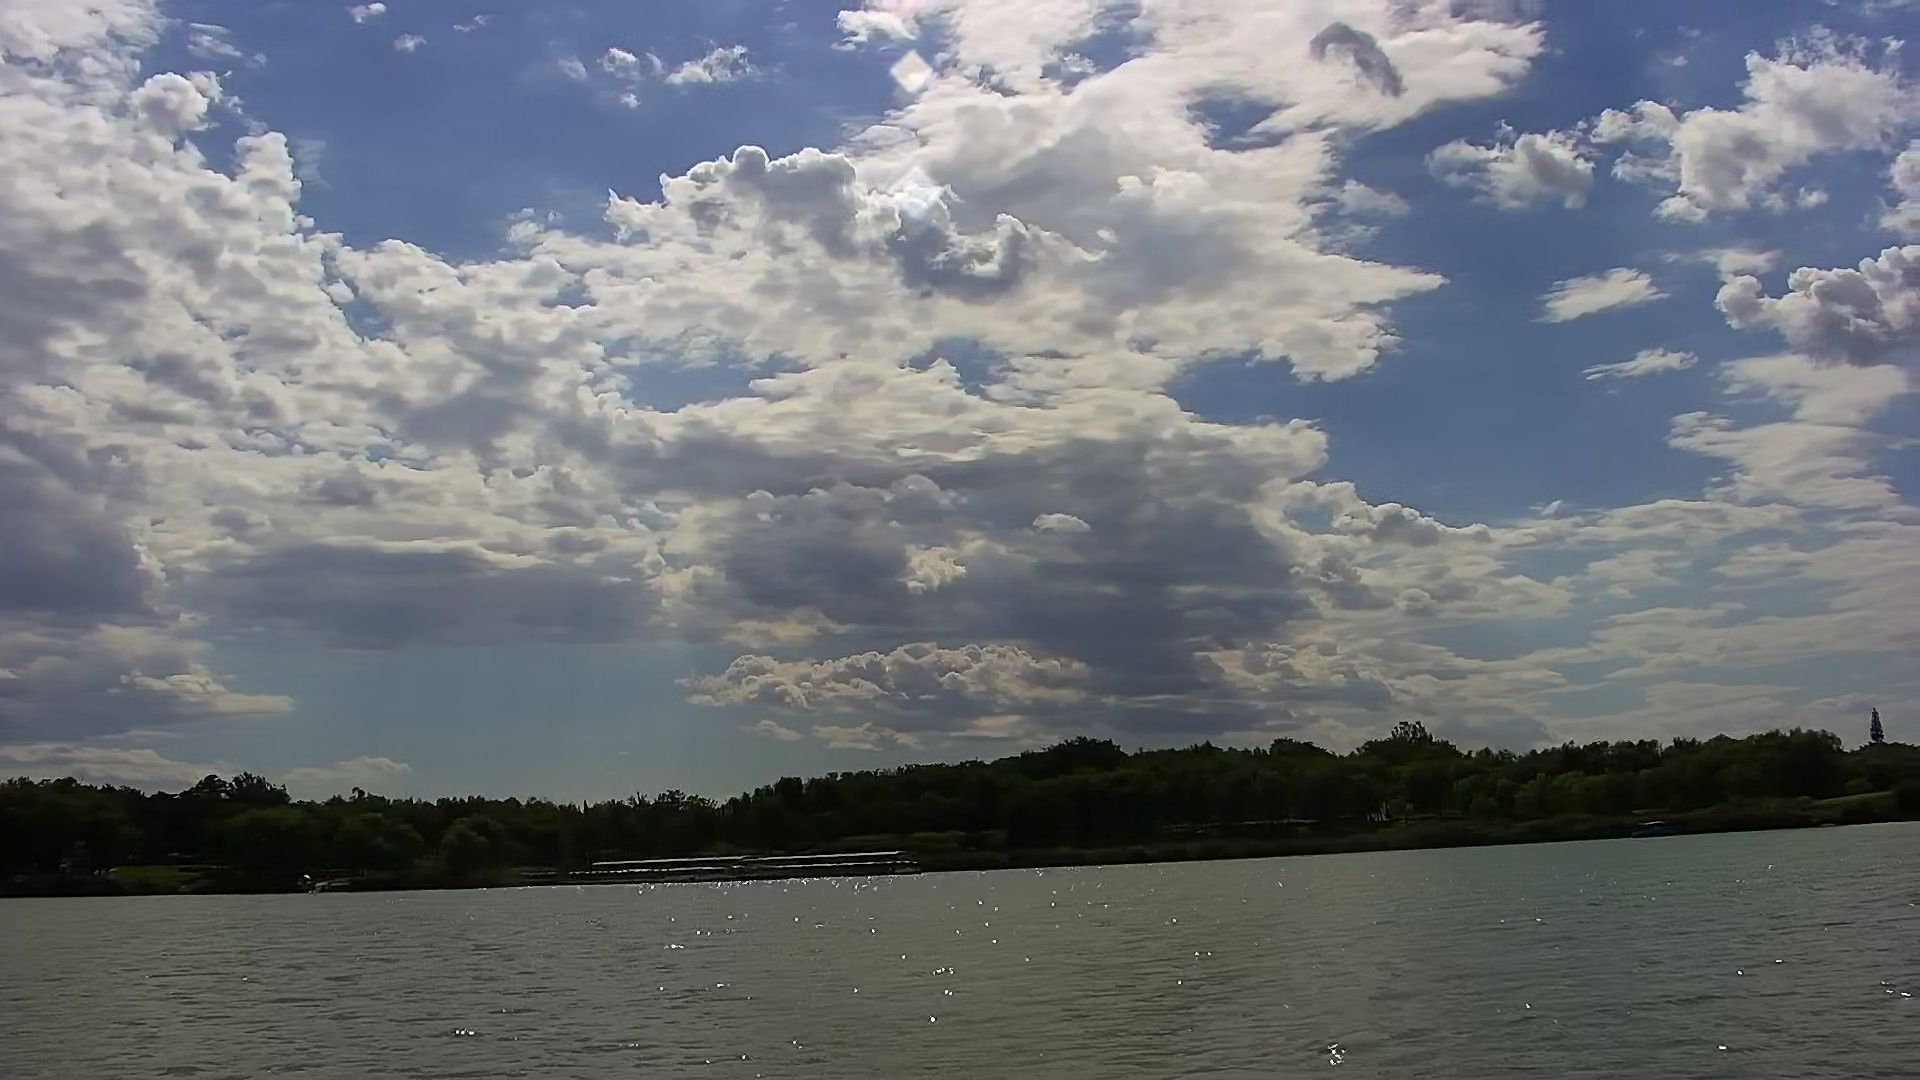harbor: (583, 845, 923, 886)
